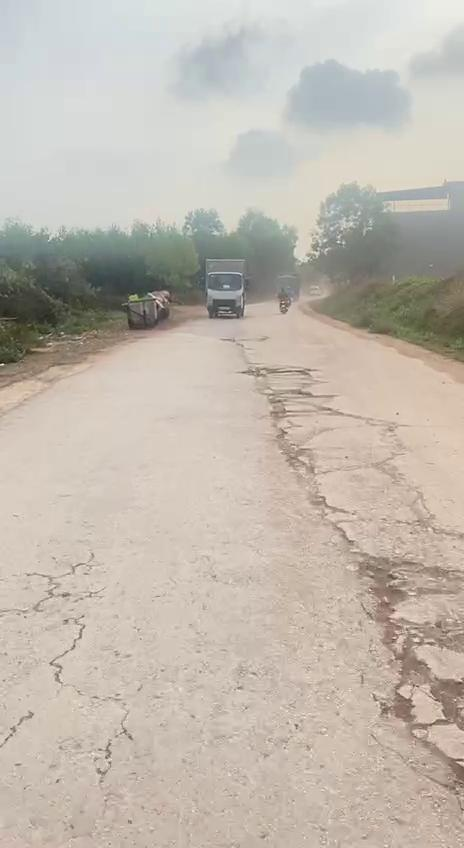pothole: (346, 550, 464, 774)
